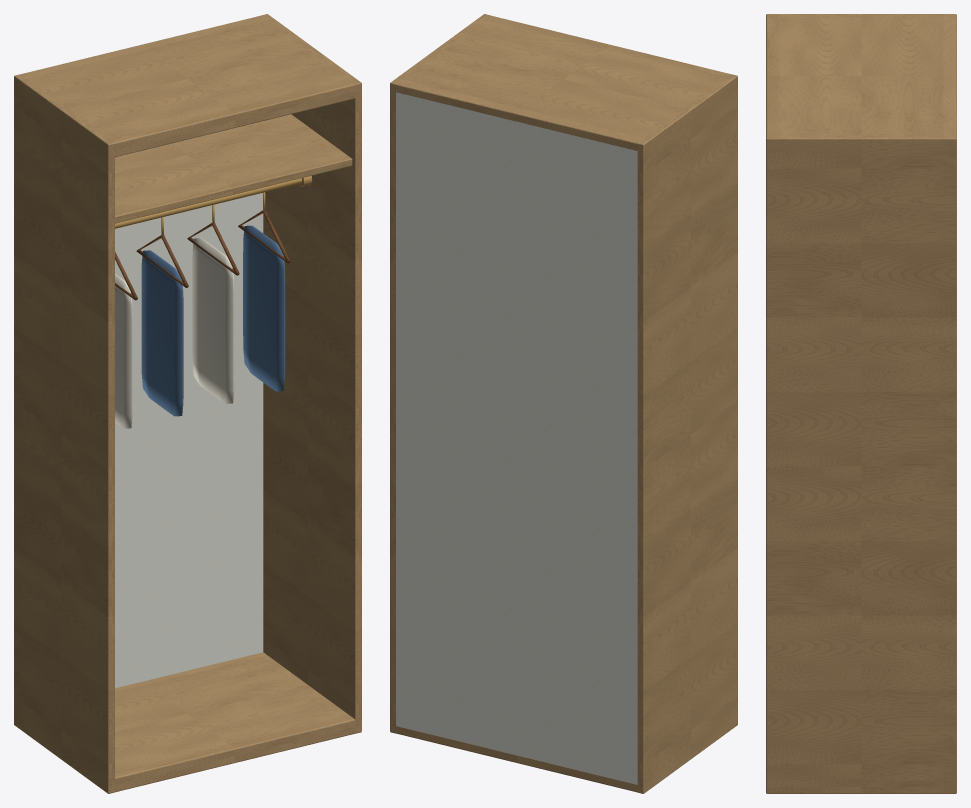
3 views of the same model, side by side, from view 1: azimuth 30°, elevation 25°; view 2: azimuth 150°, elevation 25°; view 3: azimuth 270°, elevation 25° (orthographic).
Visible parts, largest first — view 1: Cabinet side, Cabinet side.001, Cabinet back, Cabinet top bottom.001, Cabinet top bottom, Hat shelf, Hanging folded shirt.001, Hanging folded shirt.002, Hanging folded shirt.003, Hanging folded shirt, Wardrobe hanging rail; view 2: Cabinet back, Cabinet side, Cabinet top bottom.001, Cabinet side.001, Cabinet top bottom; view 3: Cabinet side.001, Cabinet top bottom.001, Cabinet top bottom, Cabinet side.
Part boxes in pixels (x1,y1,x2,y2): Cabinet side: [14, 74, 114, 793]; Cabinet side.001: [262, 14, 361, 733]; Cabinet back: [115, 193, 263, 688]; Cabinet top bottom.001: [21, 15, 360, 157]; Cabinet top bottom: [113, 652, 360, 792]; Hat shelf: [115, 114, 352, 223]; Hanging folded shirt.001: [141, 250, 183, 416]; Hanging folded shirt.002: [192, 238, 234, 403]; Hanging folded shirt.003: [243, 225, 285, 391]; Hanging folded shirt: [115, 274, 132, 428]; Wardrobe hanging rail: [115, 178, 302, 228]; Cabinet back: [396, 92, 637, 784]; Cabinet side: [637, 74, 737, 793]; Cabinet top bottom.001: [391, 15, 730, 157]; Cabinet side.001: [390, 14, 489, 733]; Cabinet top bottom: [391, 726, 708, 792]; Cabinet side.001: [766, 135, 956, 793]; Cabinet top bottom.001: [766, 16, 956, 152]; Cabinet top bottom: [767, 780, 955, 792]; Cabinet side: [766, 14, 956, 17].
Size of the model in its own units: 0.9 by 2.2 by 0.58.
Materials: 6 (6 with a texture image).
